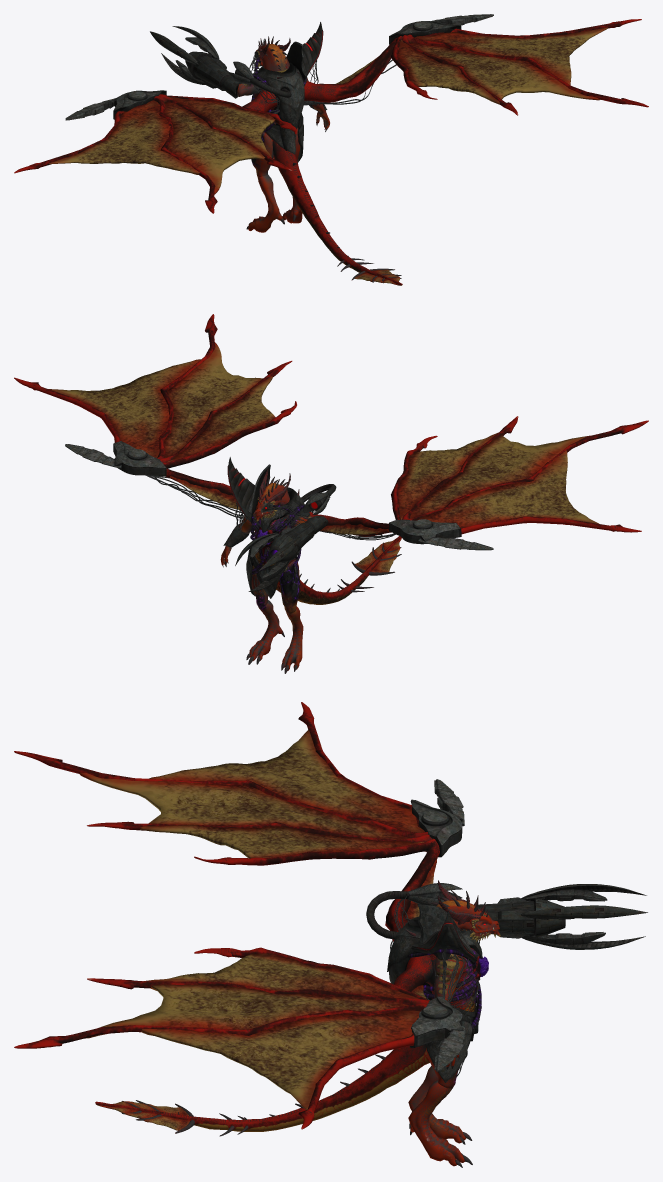
File: dark_drakor.glb
The picture shows the model from 3 angles, top to bottom: view 1: azimuth 30°, elevation 25°; view 2: azimuth 150°, elevation 25°; view 3: azimuth 270°, elevation 25°; orthographic projection. The views are drawn at different scales.
Visible parts, largest first — view 1: L_flap01, L_flap02, R_flap02, R_wing02-geometry.004, R_flap01, L_wing02-geometry.004, body-geometry.012, L_flap03, R_wing01-geometry.004, R_flap03, armcannon-geometry, tail01 (+12 smaller); view 2: L_flap01, R_flap01, L_wing02-geometry.004, R_wing02-geometry.004, L_flap02, R_flap02, L_flap03, R_flap03, body-geometry.012, R_wing01-geometry.004, L_wing01-geometry.004, pauldron (+11 smaller); view 3: R_flap01, R_wing02-geometry.004, L_flap02, L_wing02-geometry.004, L_flap01, R_flap02, R_flap03, L_flap03, body-geometry.012, tail01, armcannon-geometry, pauldron (+16 smaller).
Boxes of the visible parts, x1,y1,x2,y2 form: L_flap01: [48, 100, 199, 174]; L_flap02: [164, 102, 264, 194]; R_flap02: [410, 42, 600, 100]; R_wing02-geometry.004: [389, 19, 648, 115]; R_flap01: [414, 27, 607, 84]; L_wing02-geometry.004: [14, 90, 297, 213]; body-geometry.012: [247, 62, 306, 158]; L_flap03: [169, 97, 275, 157]; R_wing01-geometry.004: [304, 39, 396, 105]; R_flap03: [397, 40, 499, 104]; armcannon-geometry: [185, 51, 240, 98]; tail01: [274, 144, 319, 223]; L_flap01: [417, 450, 598, 527]; R_flap01: [48, 359, 200, 457]; L_wing02-geometry.004: [389, 416, 648, 544]; R_wing02-geometry.004: [14, 314, 296, 476]; L_flap02: [410, 435, 589, 518]; R_flap02: [164, 342, 262, 457]; L_flap03: [397, 432, 498, 519]; R_flap03: [167, 376, 275, 462]; body-geometry.012: [250, 487, 310, 598]; R_wing01-geometry.004: [145, 468, 244, 518]; L_wing01-geometry.004: [309, 512, 395, 540]; pauldron: [227, 457, 270, 525]; R_flap01: [141, 1010, 420, 1109]; R_wing02-geometry.004: [14, 947, 462, 1129]; L_flap02: [79, 772, 409, 839]; L_wing02-geometry.004: [14, 702, 462, 865]; L_flap01: [149, 729, 424, 832]; R_flap02: [85, 984, 408, 1038]; R_flap03: [143, 953, 418, 998]; L_flap03: [140, 824, 423, 858]; body-geometry.012: [387, 916, 482, 1049]; tail01: [333, 1044, 429, 1110]; armcannon-geometry: [478, 897, 565, 938]; pauldron: [411, 904, 477, 999].
Size of the model in its own units: 87 by 25.93 by 54.64.
10 materials, 9 textured.
